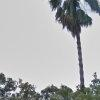Palm tree: (47, 1, 91, 97)
